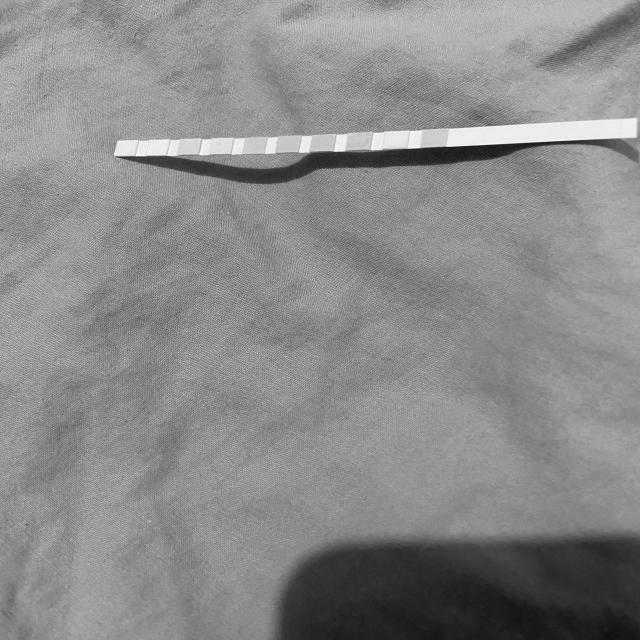Bilirubin: (385, 132, 408, 148)
Blood: (278, 136, 298, 152)
Glucose: (423, 130, 448, 146)
Ketone: (348, 134, 371, 150)
Leukocytes: (119, 141, 135, 156)
Nitrite: (150, 140, 168, 156)
Protein: (212, 138, 231, 154)
SpGravity: (313, 135, 333, 151)
Urobilinogen: (181, 139, 198, 155)
background: (0, 0, 640, 640)
pH: (246, 138, 265, 154)
strip: (114, 119, 637, 157)
